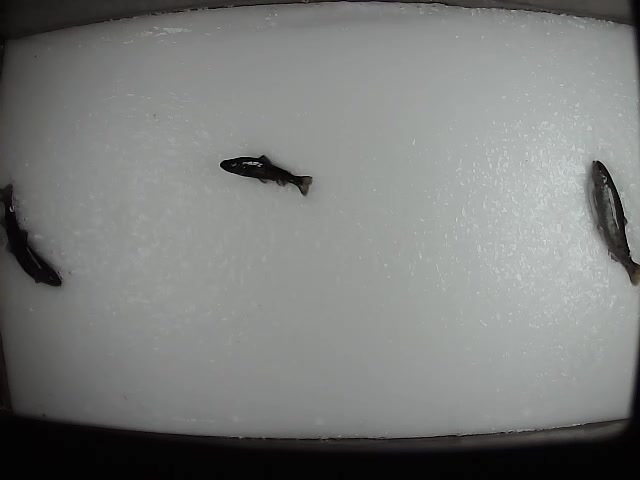Fish: (1, 181, 61, 286), (591, 160, 640, 286), (219, 156, 312, 196)
